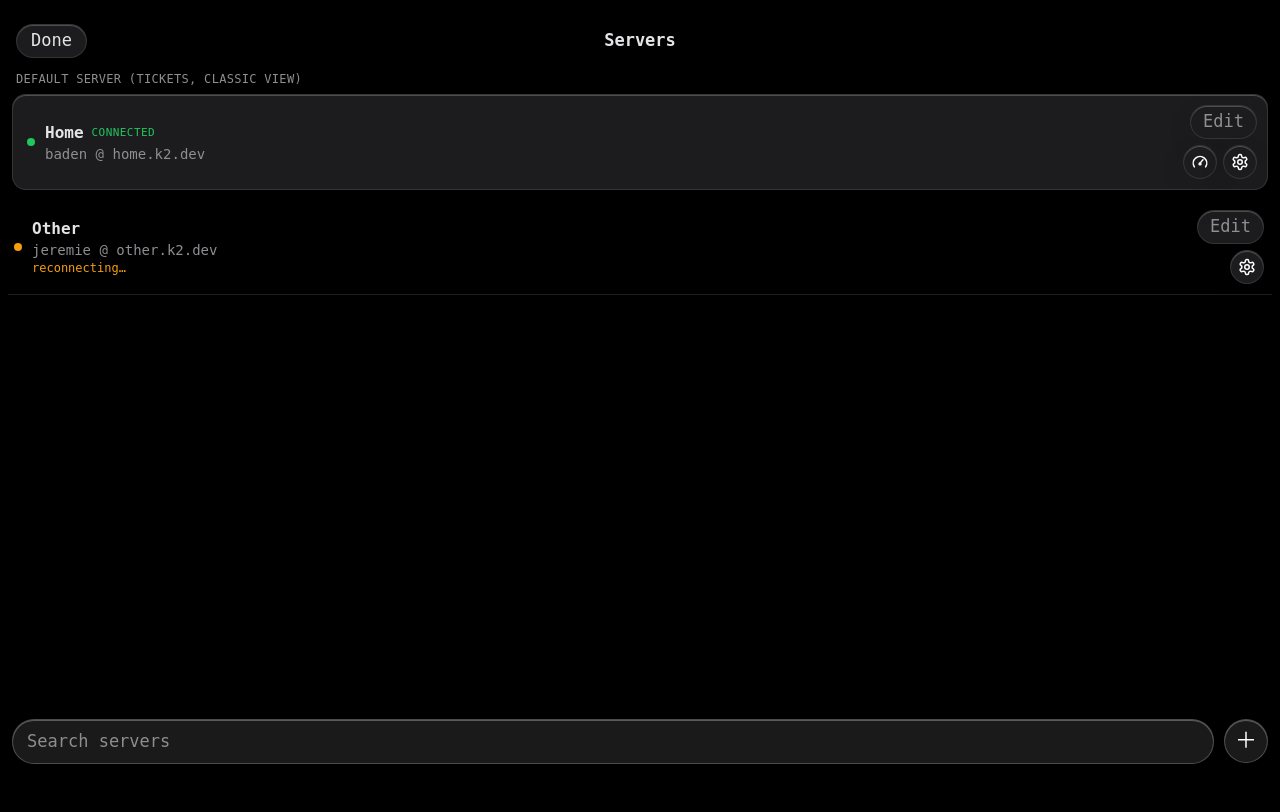
Test: Servers sheet gear → Server settings › Sign out drops only this server's token
What coordinates should you click on to do the following:
click the 2nd button with test id "server-settings"
I would click on:
 (1247, 267)
Its box is [1230, 250, 1264, 284].
(page scrolled)
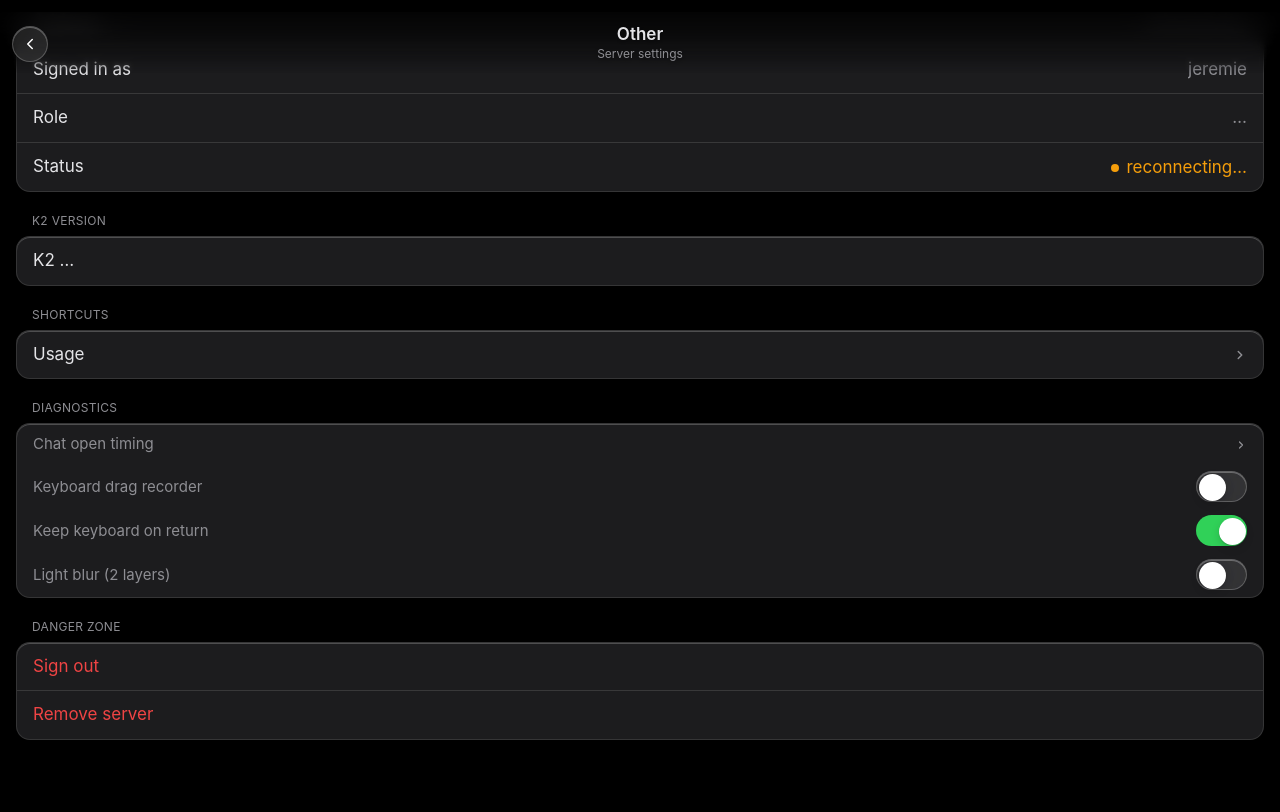
What coordinates should you click on to do the following:
click the button with test id "server-settings-signout"
I would click on:
 (66, 666)
Its box is [17, 643, 1263, 690].
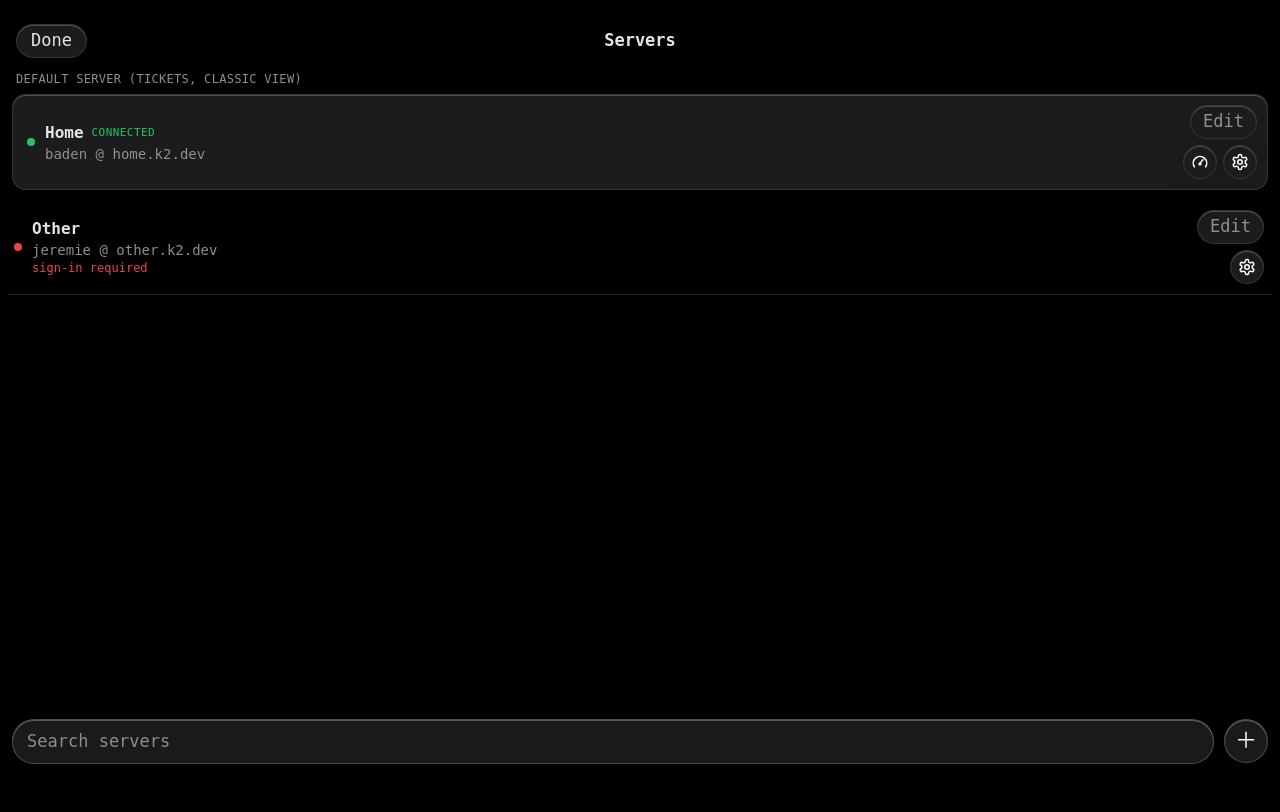
Now the element with test id "server-settings-page" is gone
